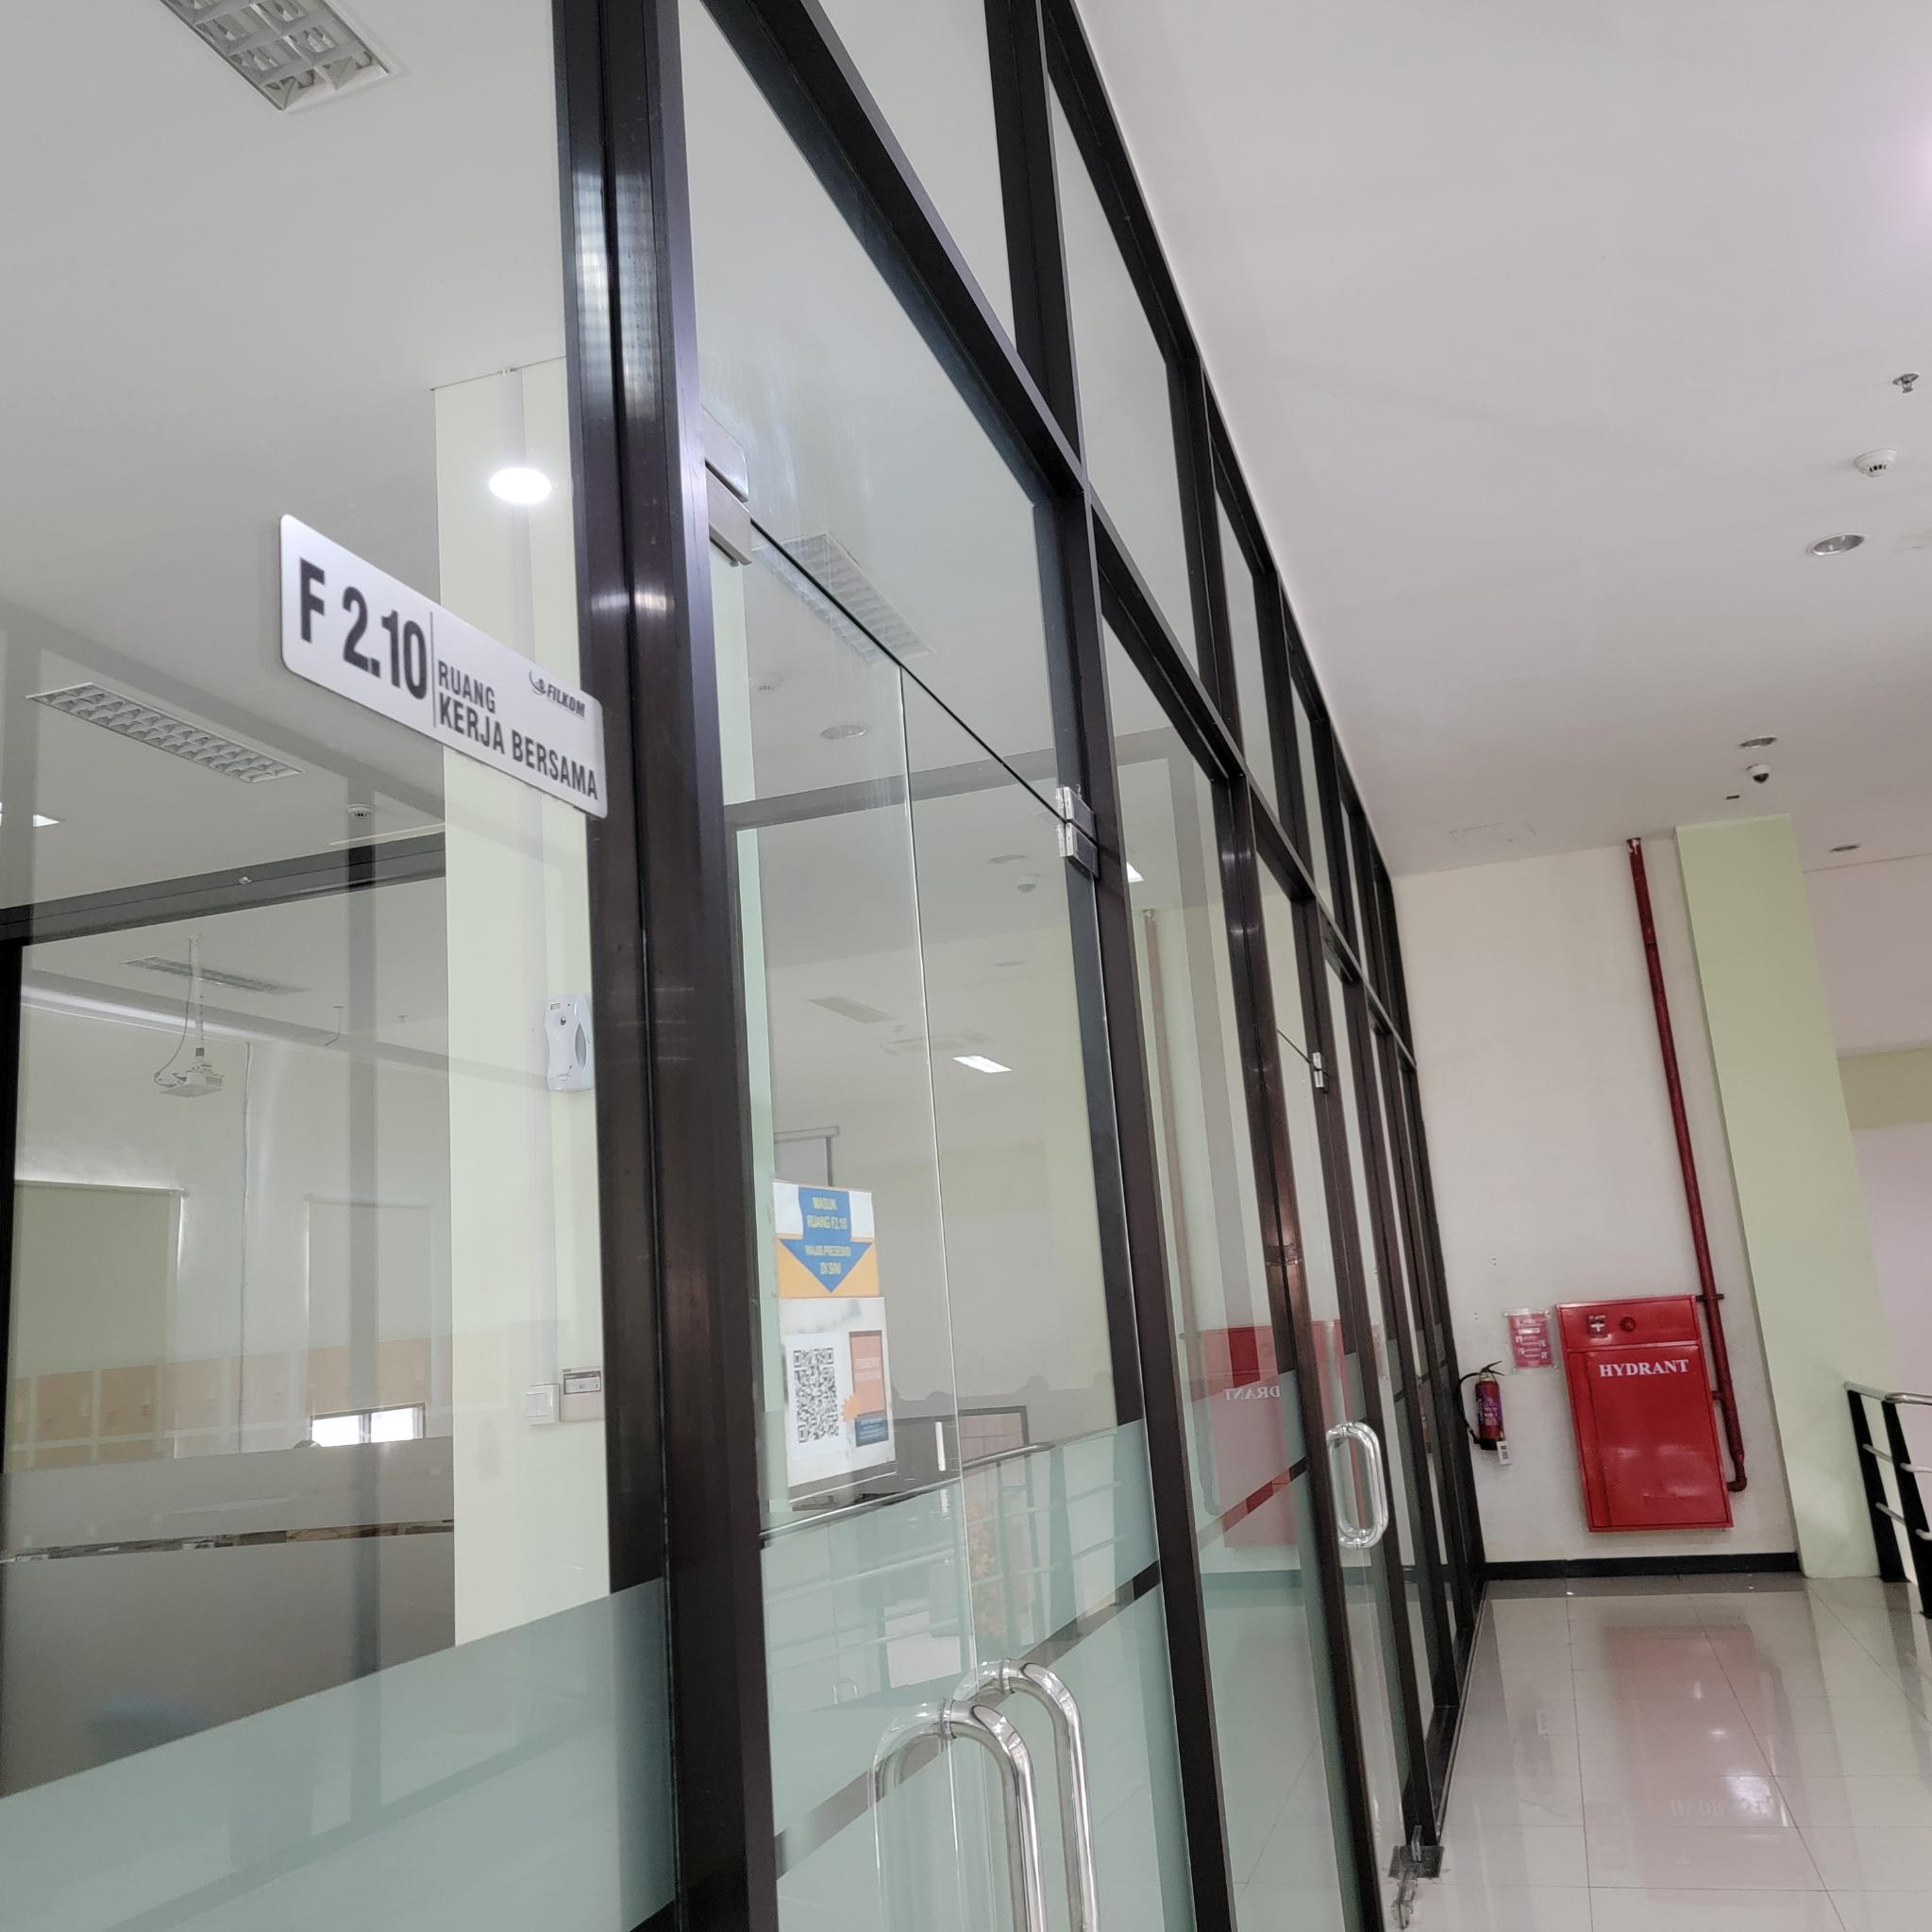plate: (278, 508, 610, 826)
